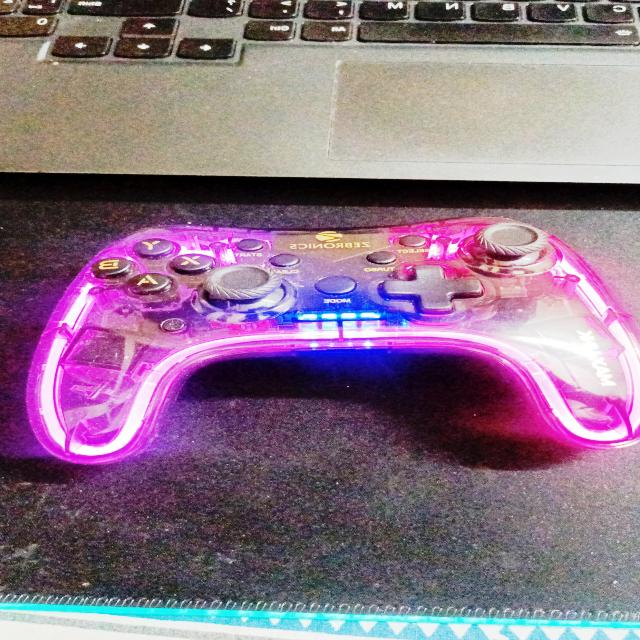gamepad: (24, 215, 640, 465)
